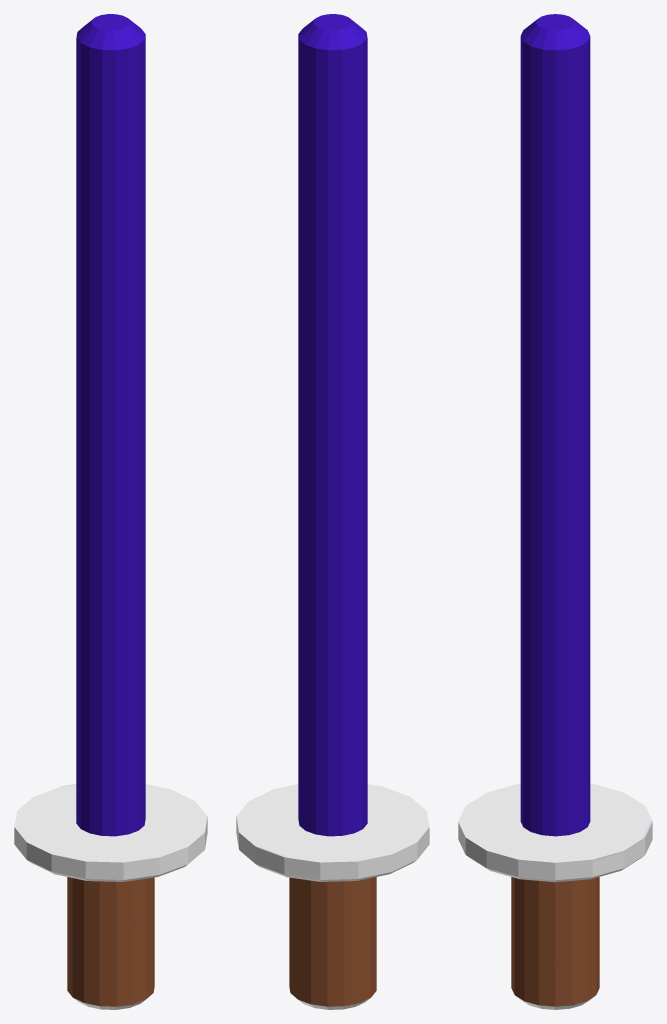
Rendered from sword.glb.
The picture shows the model from 3 angles, left to right: view 1: azimuth 30°, elevation 25°; view 2: azimuth 150°, elevation 25°; view 3: azimuth 270°, elevation 25°; orthographic projection.
Parts seen in each view (by area): view 1: Cylinder; view 2: Cylinder; view 3: Cylinder.
Part boxes in pixels (x1=…): Cylinder: x1=14, y1=14, x2=207, y2=1009; Cylinder: x1=236, y1=14, x2=429, y2=1009; Cylinder: x1=458, y1=14, x2=652, y2=1009.
Bounding box in the file's own units: 4.41 × 24.29 × 4.41.
1 material, 1 textured.
